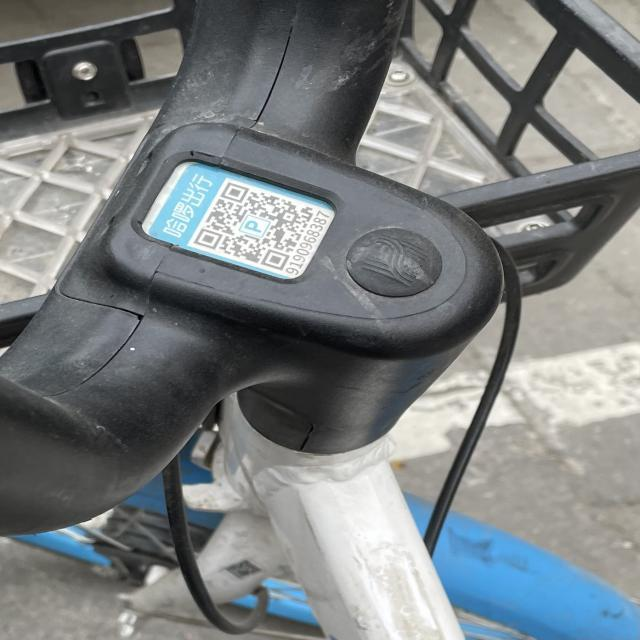qr_code: (196, 183, 315, 272)
